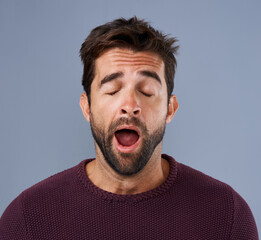young: (71, 16, 186, 182)
